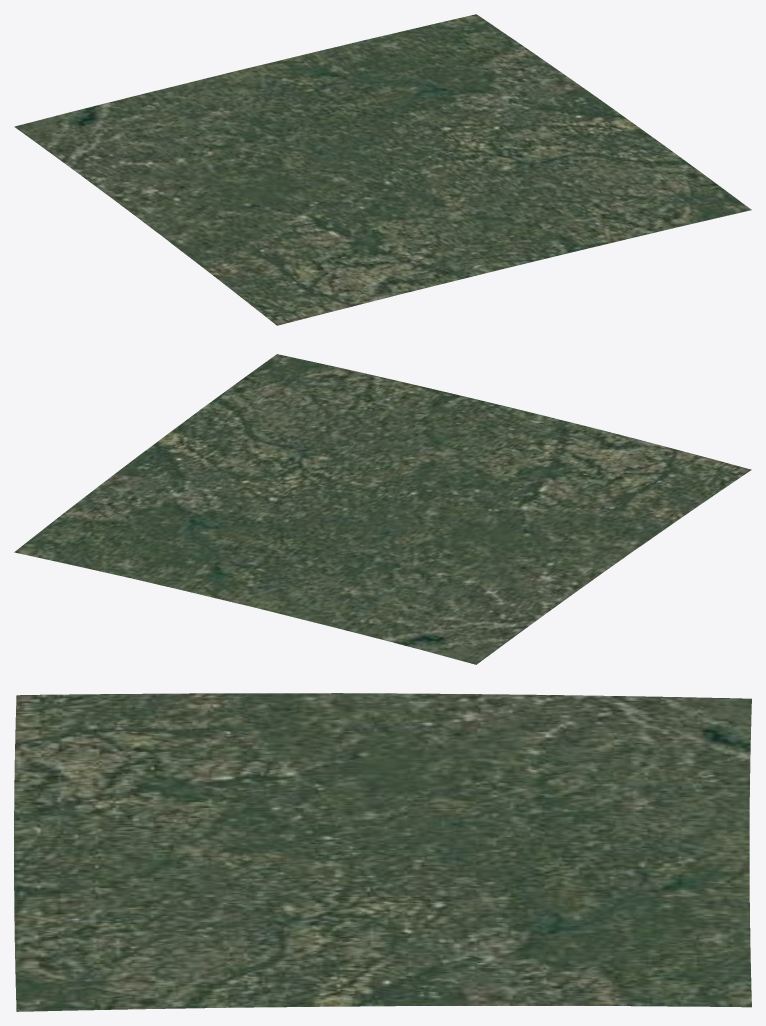
3 views of the same model, one above another, from view 1: azimuth 30°, elevation 25°; view 2: azimuth 150°, elevation 25°; view 3: azimuth 270°, elevation 25° (orthographic). The views are drawn at different scales.
Bounding box in the file's own units: 265875 × 2836 × 262040.
Materials: 1 (1 with a texture image).
